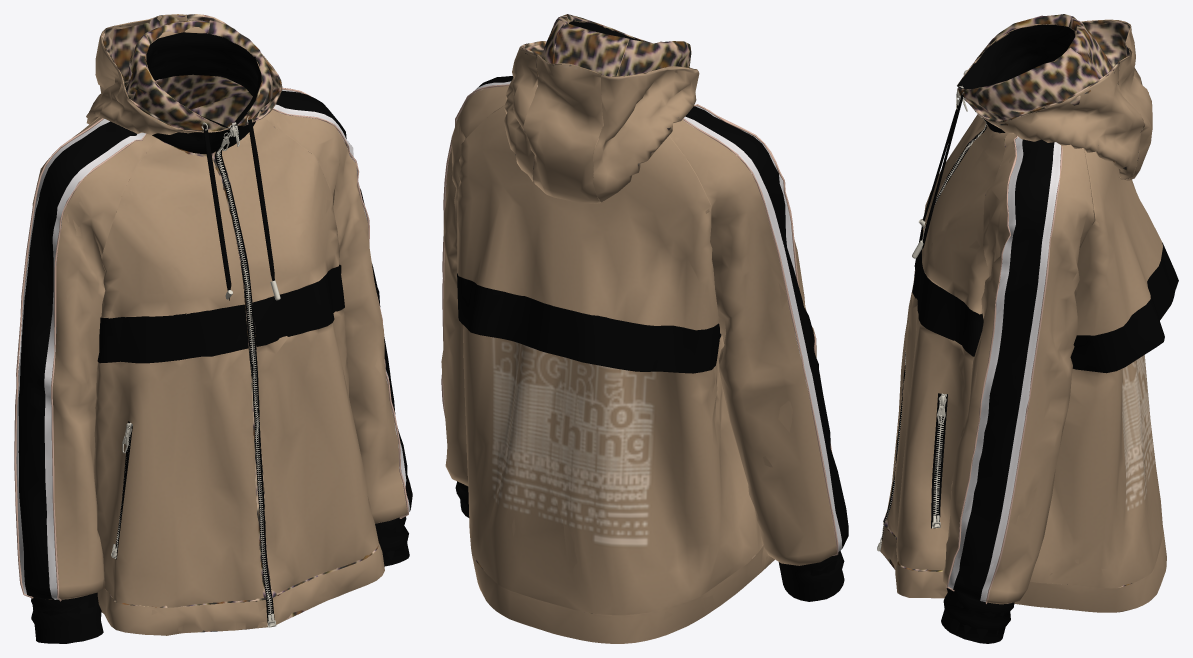
File: khaki-overshirt.glb
3 renders of one model, left to right at view 1: azimuth 30°, elevation 25°; view 2: azimuth 150°, elevation 25°; view 3: azimuth 270°, elevation 25°, orthographic. The views are drawn at different scales.
Visible parts, largest first — view 1: khaki-overshirt; view 2: khaki-overshirt; view 3: khaki-overshirt.
Boxes of the visible parts, x1,y1,x2,y2 form: khaki-overshirt: (14, 14, 412, 643); khaki-overshirt: (441, 14, 848, 643); khaki-overshirt: (877, 14, 1178, 643).
Size of the model in its own units: 1.59 by 2.2 by 1.11.
11 materials, 1 textured.
